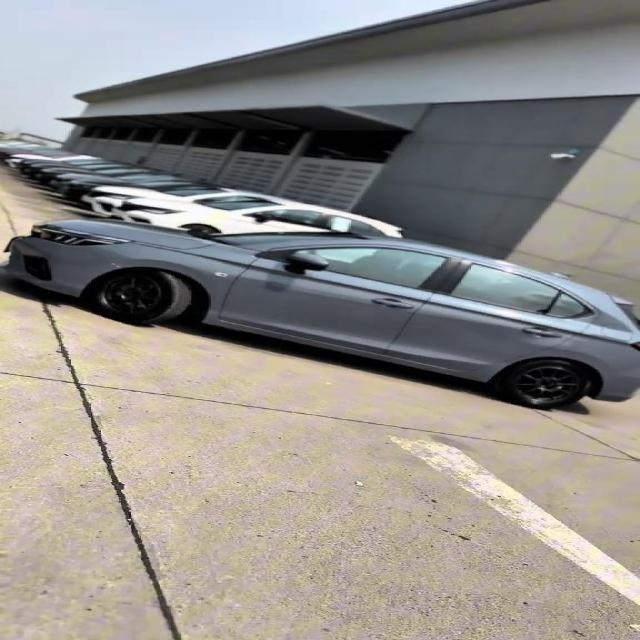Hatchback: (2, 219, 639, 409)
